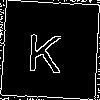K: (25, 24, 64, 73)
